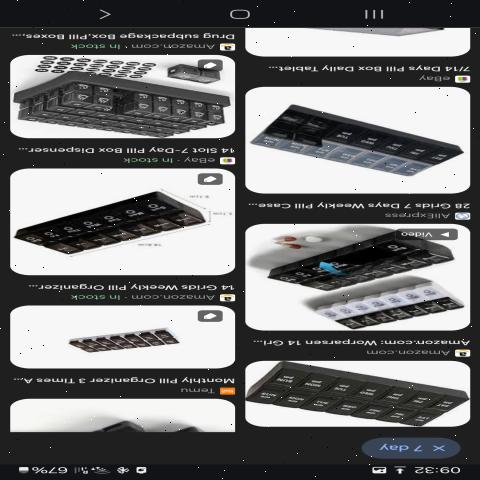PillBox: (13, 178, 231, 264), (256, 90, 465, 179), (223, 362, 469, 432), (259, 228, 464, 290), (58, 328, 180, 362)
